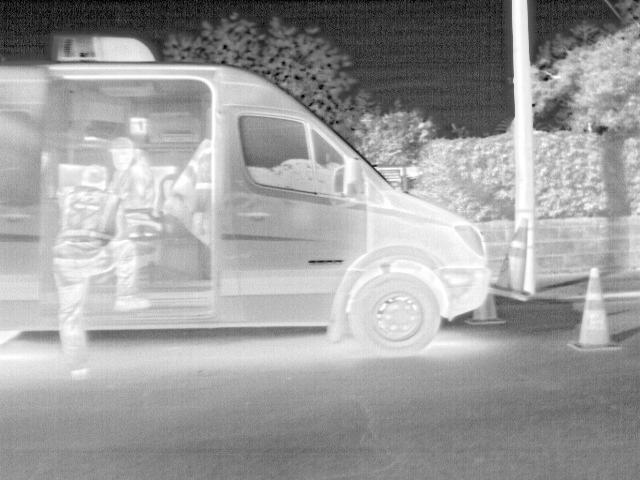car: (0, 60, 493, 358)
person: (53, 162, 139, 386), (108, 135, 155, 222)
